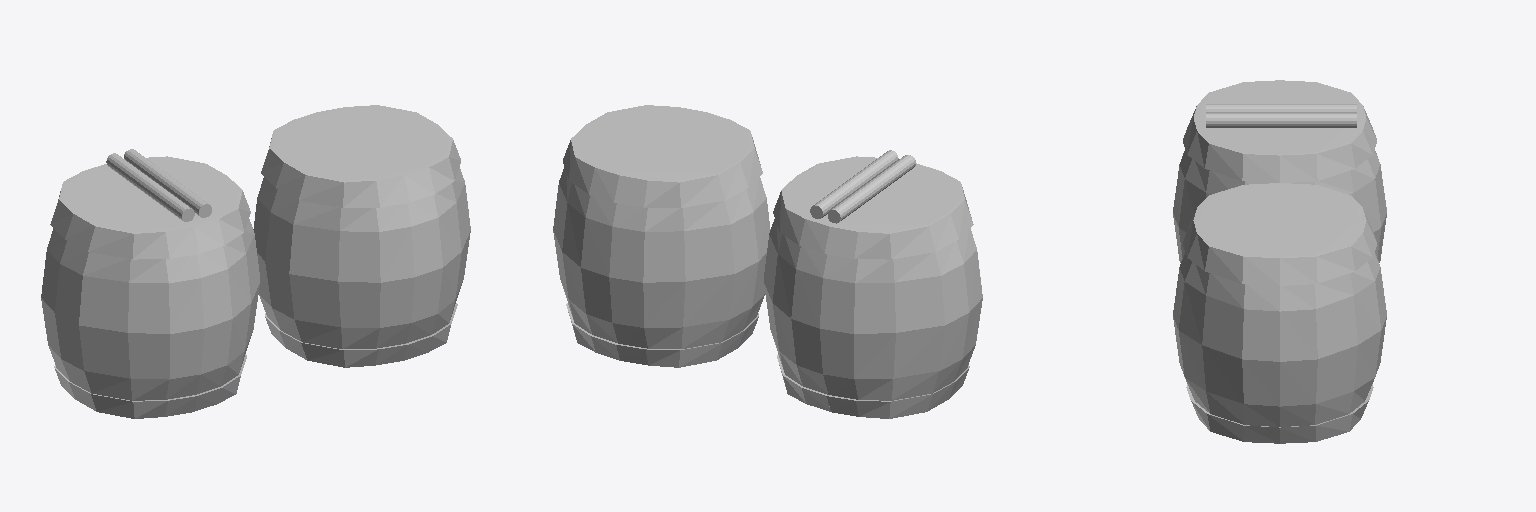
File: Tapon.obj
The picture shows the model from 3 angles: view 1: azimuth 30°, elevation 25°; view 2: azimuth 150°, elevation 25°; view 3: azimuth 270°, elevation 25°; orthographic projection.
Parts seen in each view (by area): view 1: Klong_that-1.001; view 2: Klong_that-1.001; view 3: Klong_that-1.001.
Part boxes in pixels (x1,y1,x2,y2): Klong_that-1.001: (41, 105, 470, 418); Klong_that-1.001: (553, 105, 982, 418); Klong_that-1.001: (1173, 80, 1386, 443).
Size of the model in its own units: 5.57 by 2.64 by 2.57.